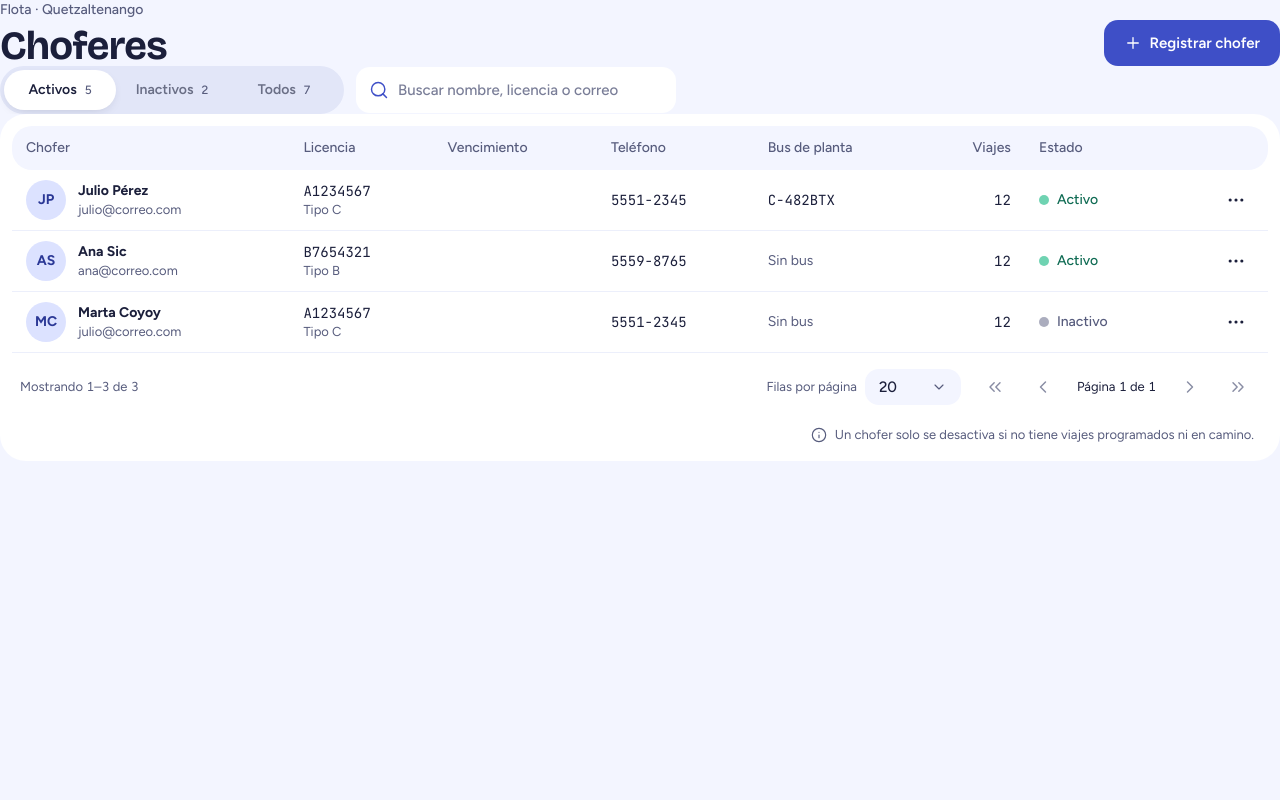
DriversScreen › shows the reason in the dialog when the driver has trips
Click the button named "Acciones de Ana Sic" at (1236, 261), box left=1218, top=243, right=1254, bottom=279
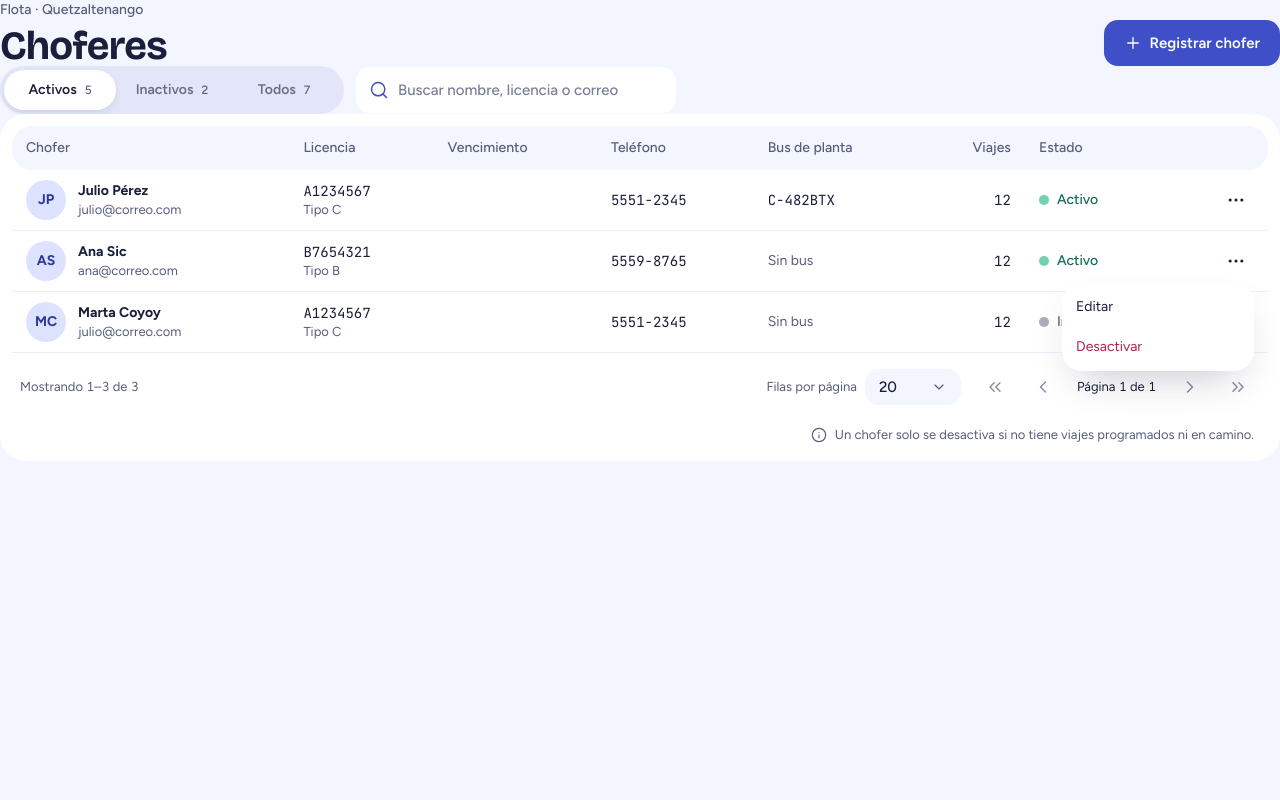
Click the menu item "Desactivar" at (1109, 346), box left=1076, top=338, right=1142, bottom=355
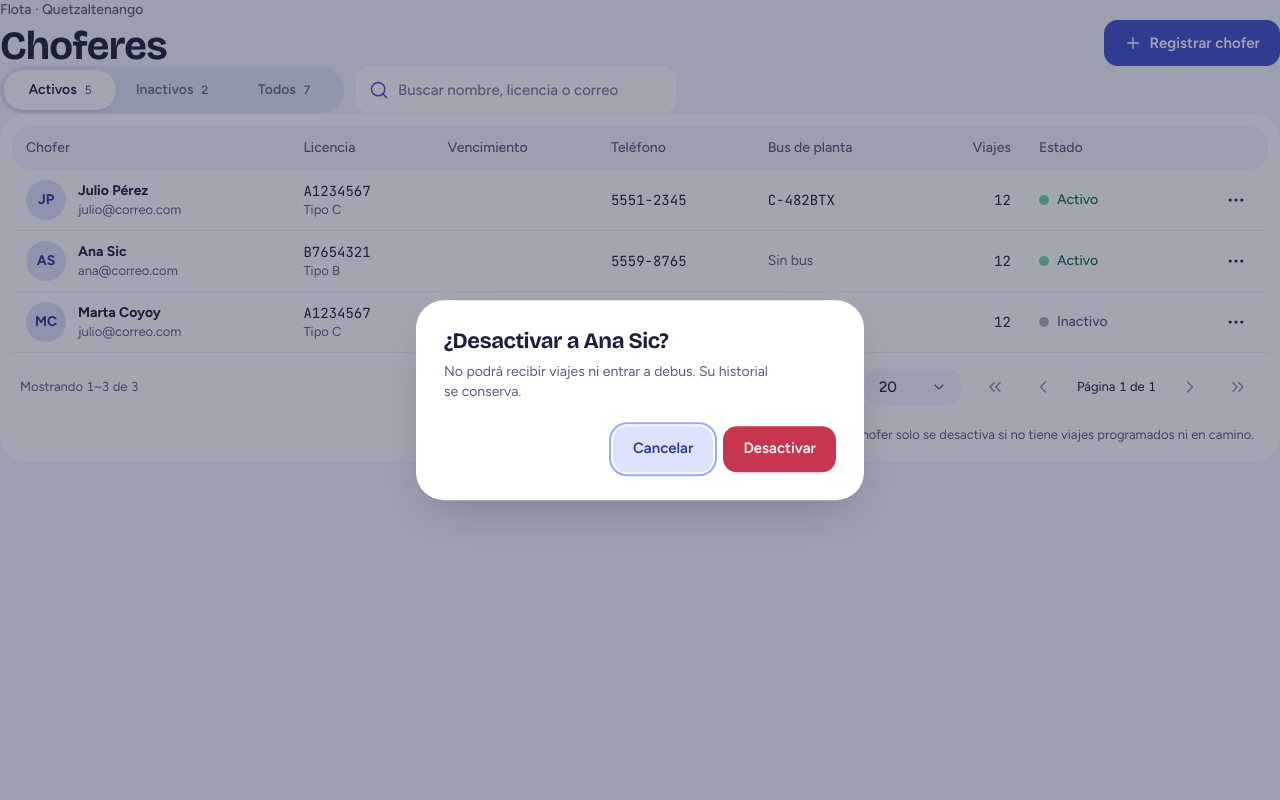
Click the button "Desactivar" at (780, 449), box left=723, top=426, right=836, bottom=472
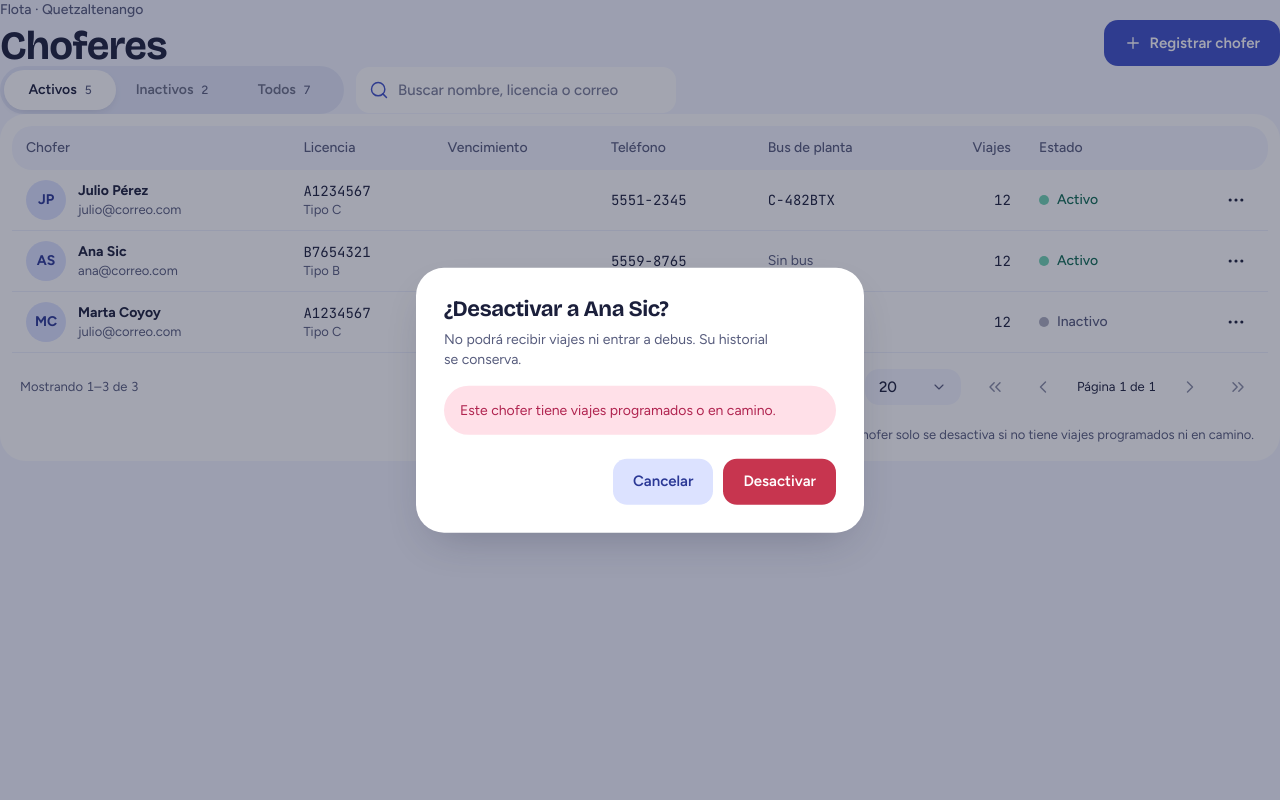
Result: the message shows "tiene viajes programados" at left=460, top=401, right=776, bottom=418
